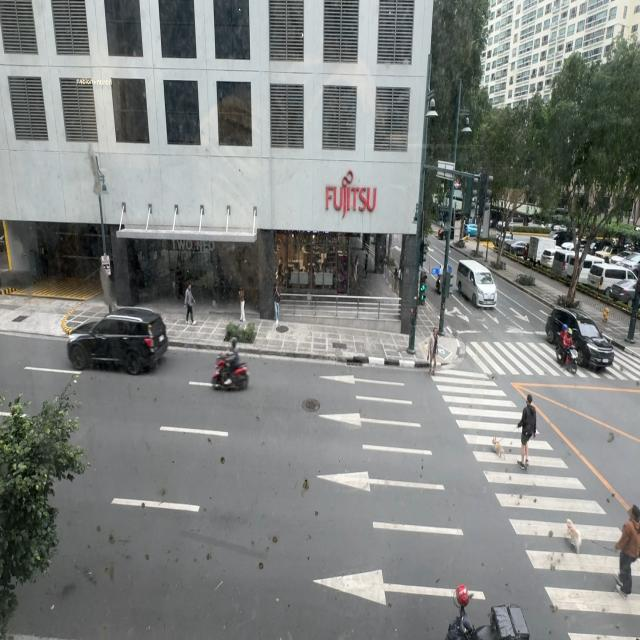crossing: (613, 505, 639, 595), (516, 394, 536, 466), (427, 326, 438, 375)
pedestrain: (184, 283, 196, 325), (273, 283, 280, 324), (239, 287, 246, 322)
